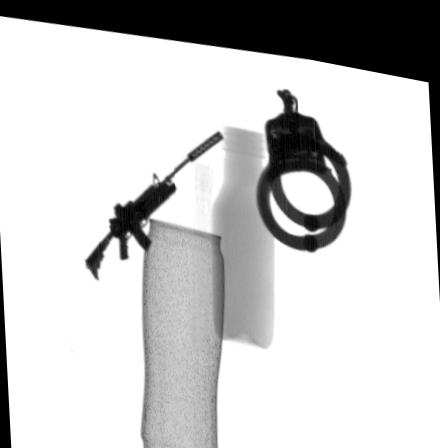Gun: (83, 119, 225, 275)
HandCuffs: (257, 77, 352, 239)
